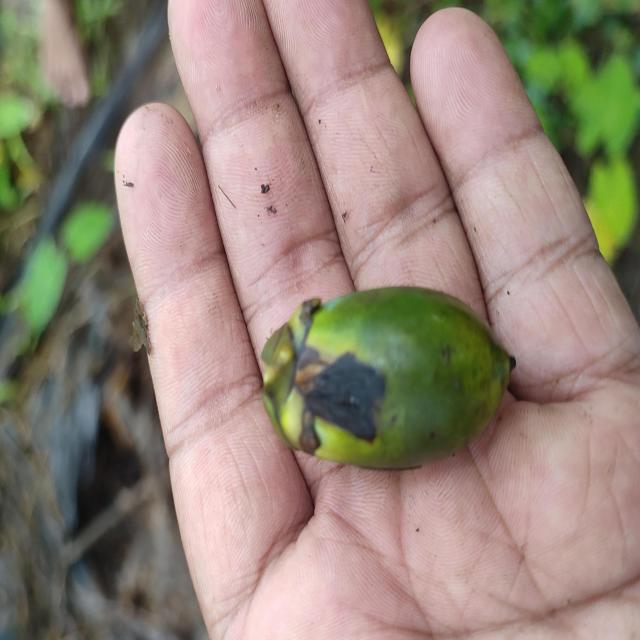damaged: (257, 287, 516, 474)
